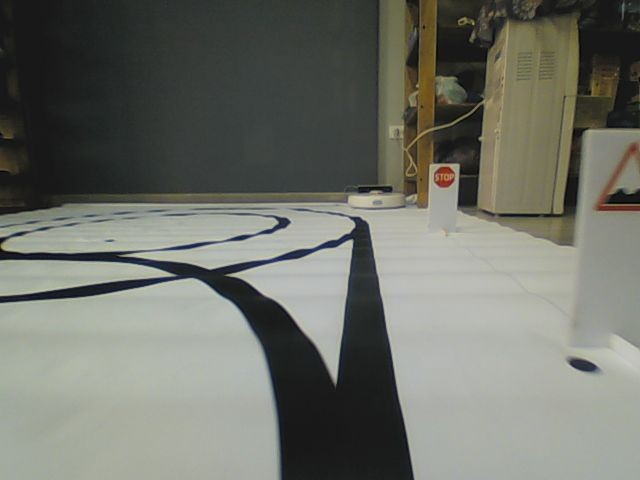Stop: (433, 165, 455, 188)
